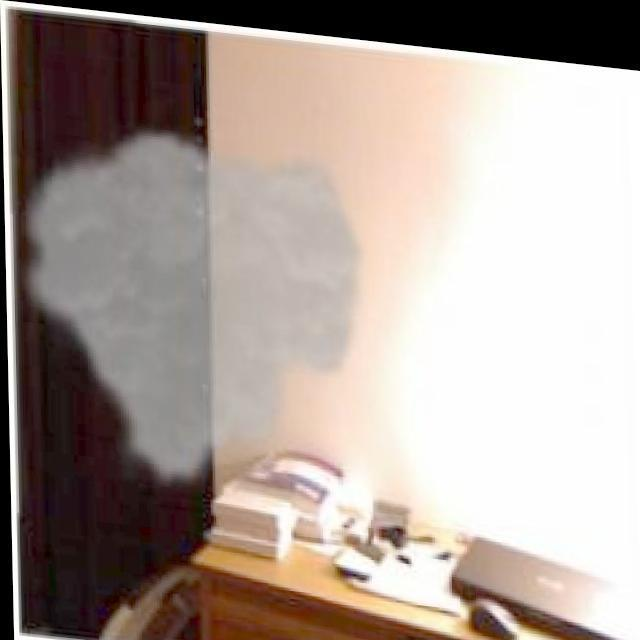Smoke: (15, 111, 373, 500)
